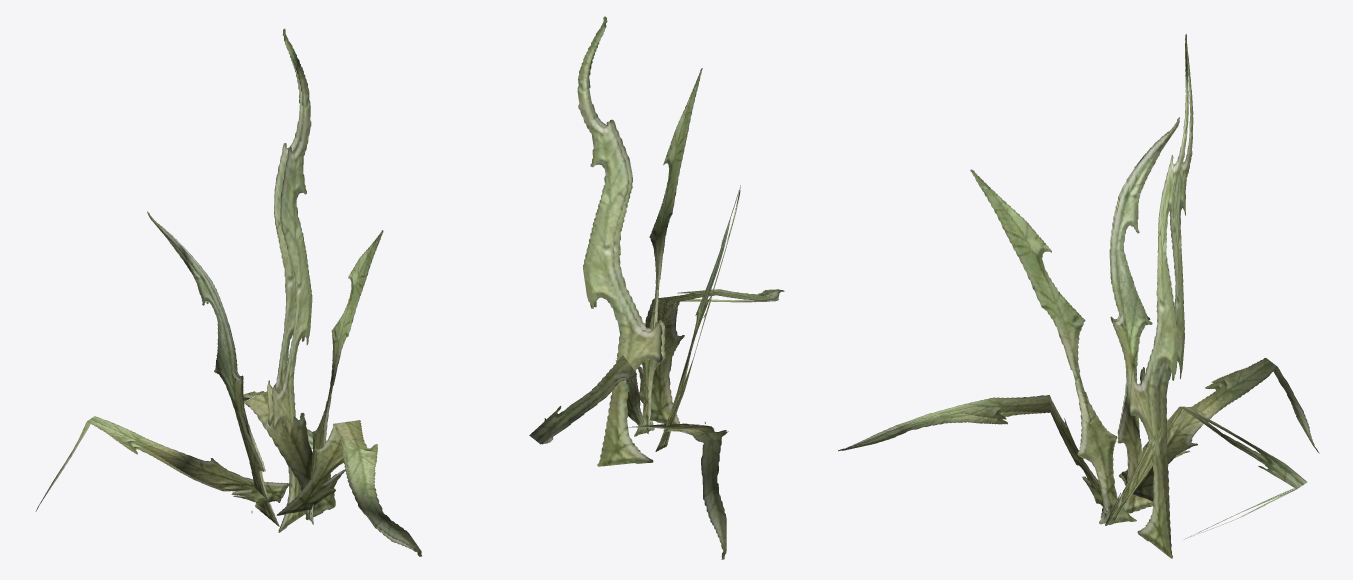
Rendered from core_leaf_razorgrass_frst_a2_l1.fbx.
3 renders of one model, left to right at view 1: azimuth 30°, elevation 25°; view 2: azimuth 150°, elevation 25°; view 3: azimuth 270°, elevation 25°, orthographic. The views are drawn at different scales.
Parts seen in each view (by area): view 1: mesh_node; view 2: mesh_node; view 3: mesh_node.
Part boxes in pixels (<box>): mesh_node: <box>35,28,421,556</box>; mesh_node: <box>529,16,784,559</box>; mesh_node: <box>838,34,1319,558</box>.
Size of the model in its own units: 0.8373 by 1.3 by 1.12.
